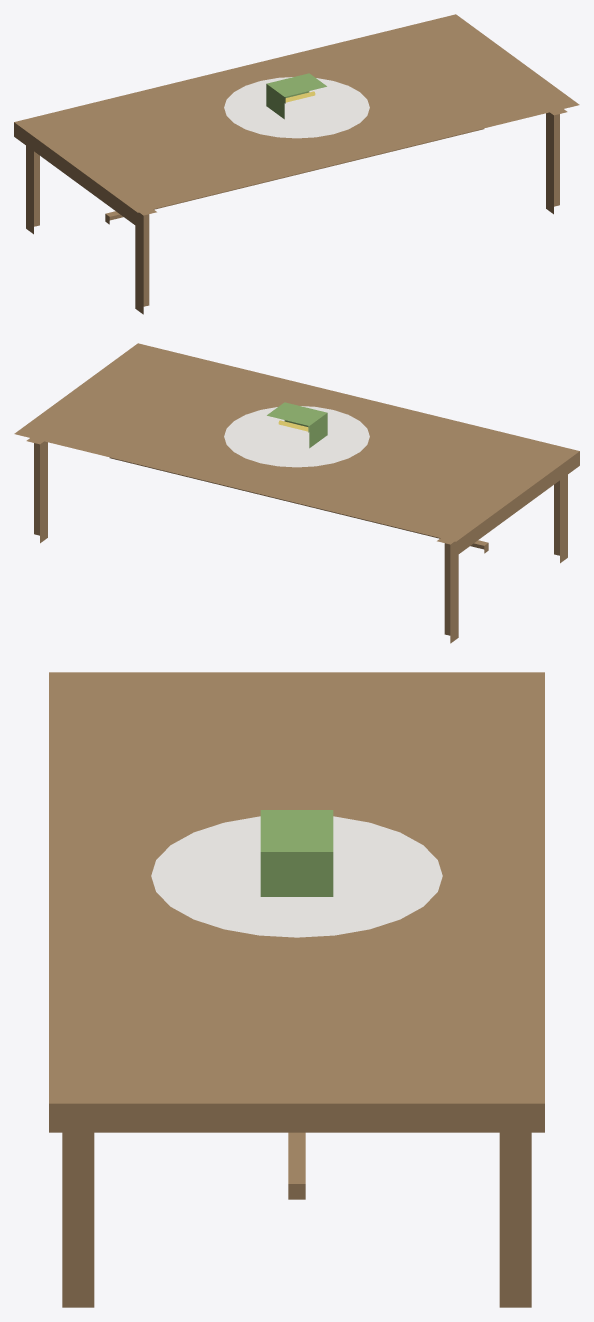
Rendered from tamal_mesa.glb.
3 views of the same model, one above another, from view 1: azimuth 30°, elevation 25°; view 2: azimuth 150°, elevation 25°; view 3: azimuth 270°, elevation 25° (orthographic). The views are drawn at different scales.
Visible parts, largest first — view 1: tablero, plato, pata (×3), hoja, refuerzo; view 2: tablero, plato, pata (×3), hoja, refuerzo; view 3: tablero, plato, pata (×2), hoja, refuerzo.
Part boxes in pixels (x1,y1,x2,y2): tablero: (14,14,579,226); plato: (224,77,369,138); pata (×3): (26,109,567,314); hoja: (266,73,326,119); refuerzo: (105,128,484,224); tablero: (14,343,579,555); plato: (224,406,369,467); pata (×3): (26,438,567,643); hoja: (267,402,327,448); refuerzo: (109,457,488,553); tablero: (49,672,544,1132); plato: (151,816,442,937); pata (×2): (62,1132,531,1307); hoja: (260,810,333,896); refuerzo: (288,1132,305,1199).
Size of the model in its own units: 7 by 2.04 by 3.4.
